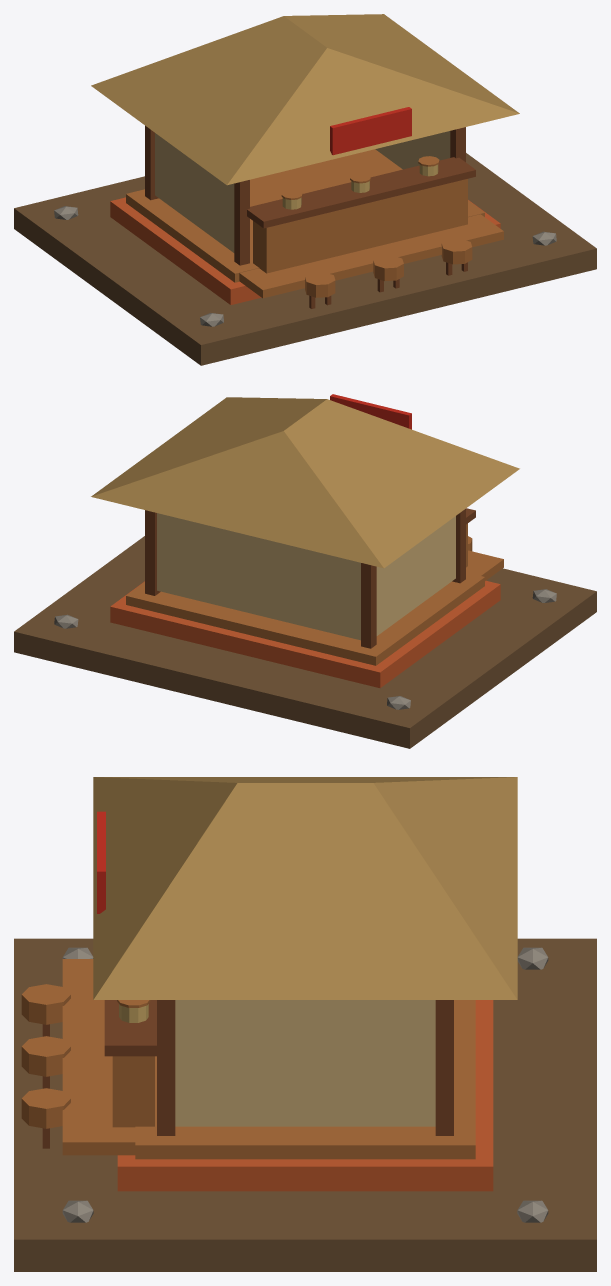
The model's file is simple_warung.glb.
3 renders of one model, top to bottom at view 1: azimuth 30°, elevation 25°; view 2: azimuth 150°, elevation 25°; view 3: azimuth 270°, elevation 25°, orthographic. The views are drawn at different scales.
Parts seen in each view (by area): view 1: WarungRoof, Building_Base, ServingCounter, WarungFloor, WarungPorch, WarungSideWall, CounterTop, WarungPlatform, WarungSign, WarungSideWall.001, WarungPost, Stool (+4 smaller); view 2: WarungRoof, Building_Base, WarungRearPanel, WarungPlatform, WarungFloor, WarungSideWall, WarungPost.001, WarungPost.003, WarungSign, WarungPorch, WarungPost; view 3: WarungRoof, Building_Base, WarungSideWall.001, WarungPlatform, WarungFloor, WarungPorch, ServingCounter, WarungPost.002, WarungPost.003, CounterTop, Stool.002, Stool (+2 smaller).
Part boxes in pixels (x1,y1,x2,y2): WarungRoof: (91, 14, 519, 185); Building_Base: (14, 153, 596, 365); ServingCounter: (253, 179, 467, 273); WarungFloor: (126, 149, 484, 282); WarungPorch: (239, 214, 503, 298); WarungSideWall: (155, 133, 234, 252); CounterTop: (247, 157, 475, 228); WarungPlatform: (110, 197, 500, 304); WarungSign: (330, 107, 411, 155); WarungSideWall.001: (375, 131, 450, 169); WarungPost: (234, 180, 249, 265); Stool: (305, 272, 335, 297); WarungRoof: (91, 397, 519, 568); Building_Base: (14, 536, 596, 748); WarungRearPanel: (157, 513, 360, 640); WarungPlatform: (110, 580, 500, 687); WarungFloor: (126, 572, 484, 665); WarungSideWall: (376, 516, 455, 635); WarungPost.001: (361, 563, 376, 648); WarungPost.003: (145, 510, 160, 595); WarungSign: (330, 394, 411, 429); WarungPorch: (466, 550, 503, 580); WarungPost: (452, 509, 465, 583); WarungRoof: (93, 777, 517, 999); Building_Base: (14, 938, 596, 1271); WarungSideWall.001: (175, 1000, 435, 1126); WarungPlatform: (117, 1000, 493, 1191); WarungFloor: (135, 1000, 475, 1159); WarungPorch: (62, 959, 135, 1155); ServingCounter: (112, 1056, 154, 1127); WarungPost.002: (157, 1000, 175, 1135); WarungPost.003: (435, 1000, 453, 1135); CounterTop: (104, 1000, 156, 1056); Stool.002: (21, 1088, 70, 1128); Stool: (21, 984, 70, 1024).
Bounding box in the file's own units: 11 × 5.77 × 9.
